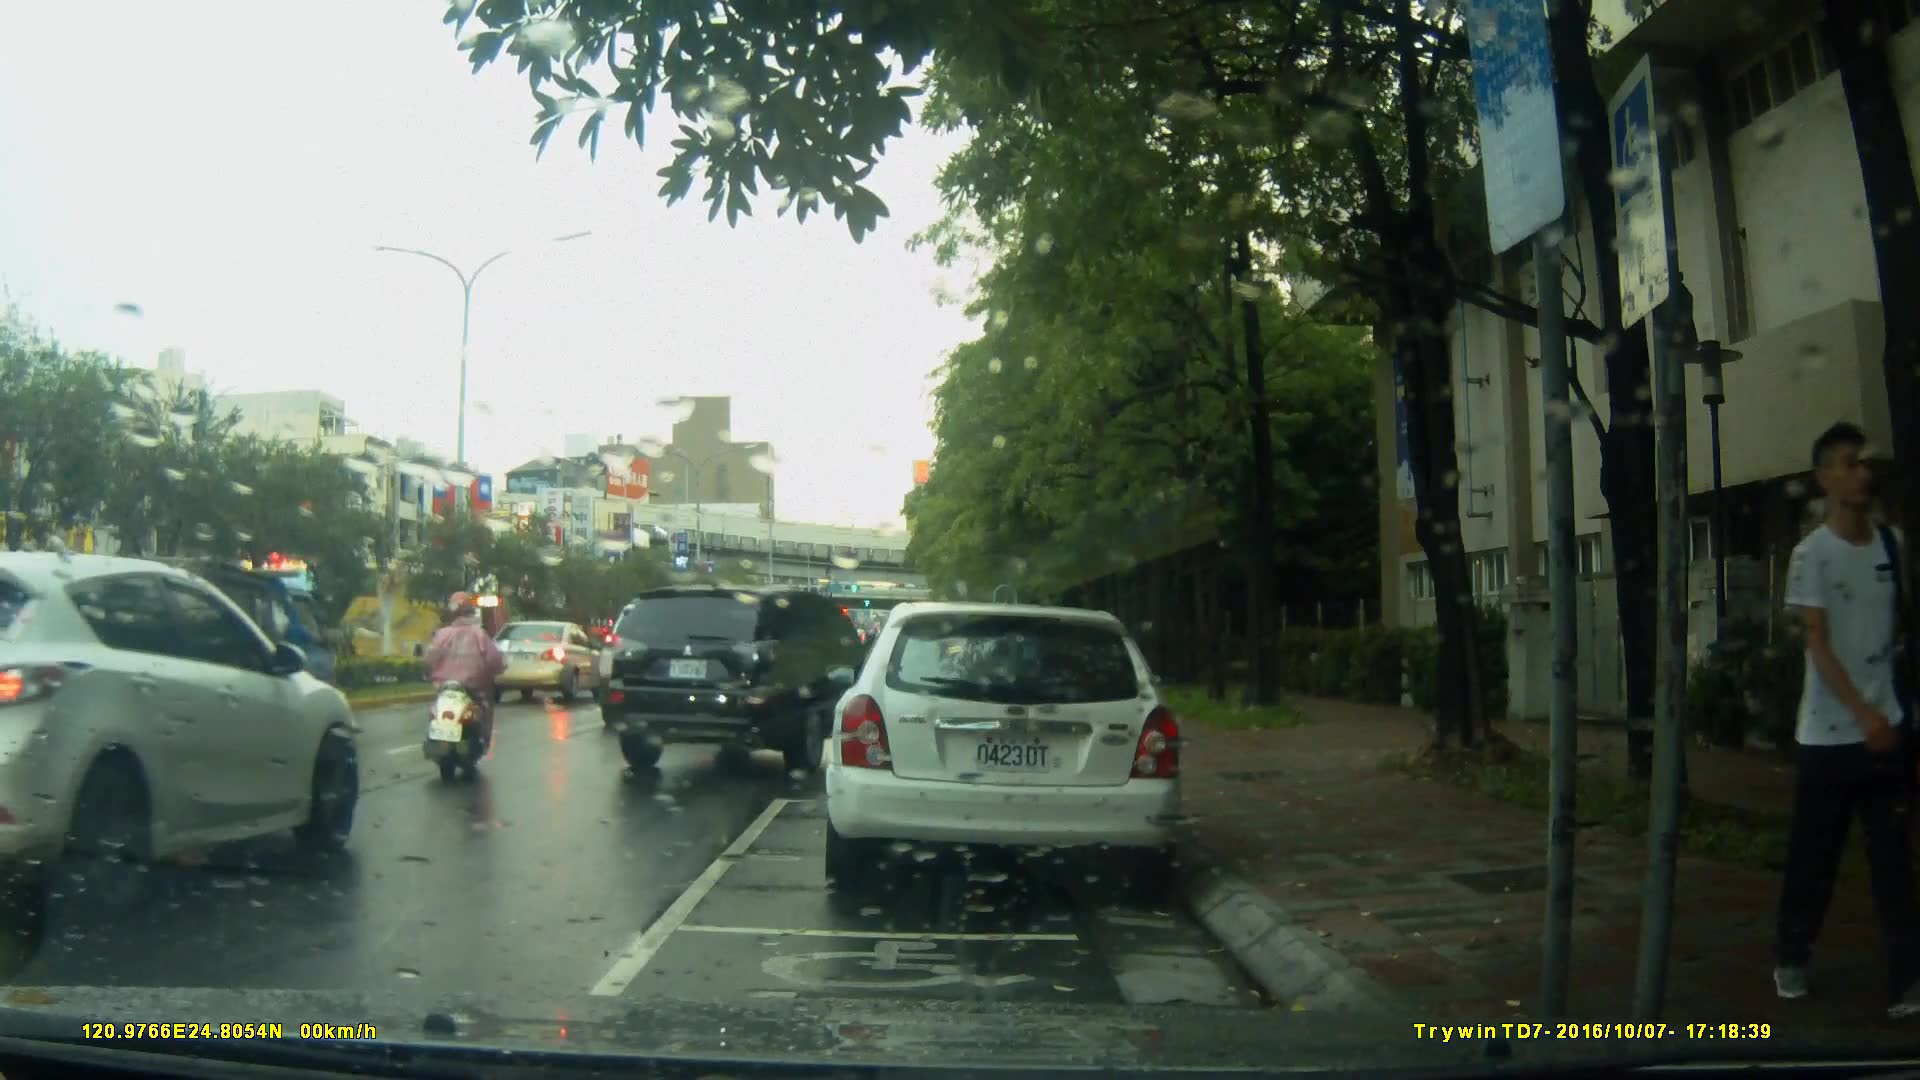pedestrian: (1774, 407, 1911, 1023)
rider: (430, 590, 502, 776)
vehicle: (1, 549, 369, 924), (820, 602, 1188, 898), (597, 581, 889, 773), (203, 542, 477, 692), (480, 618, 597, 705)
